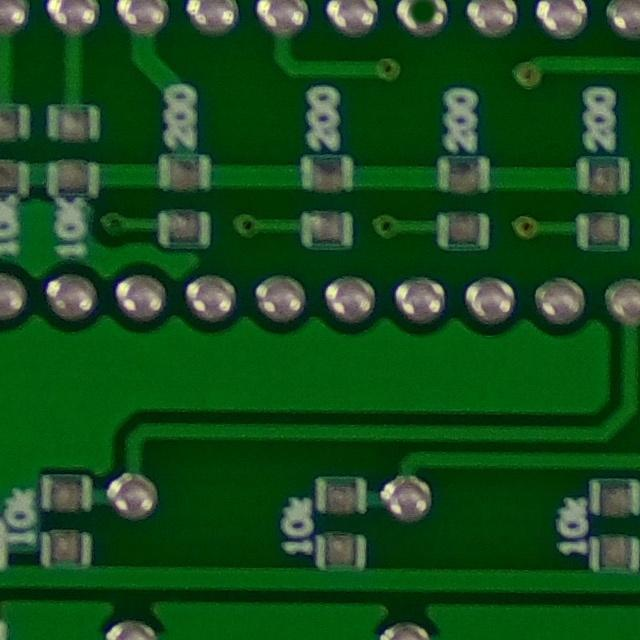missing_hole: (394, 0, 451, 42)
